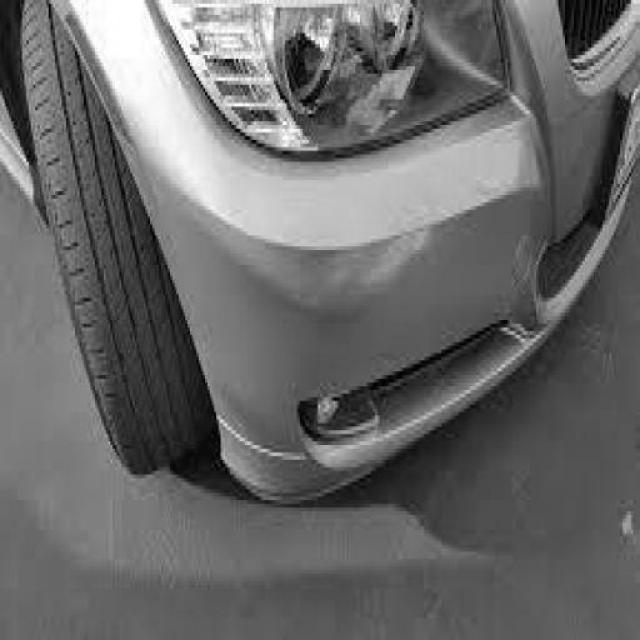scratch: (237, 207, 430, 325)
